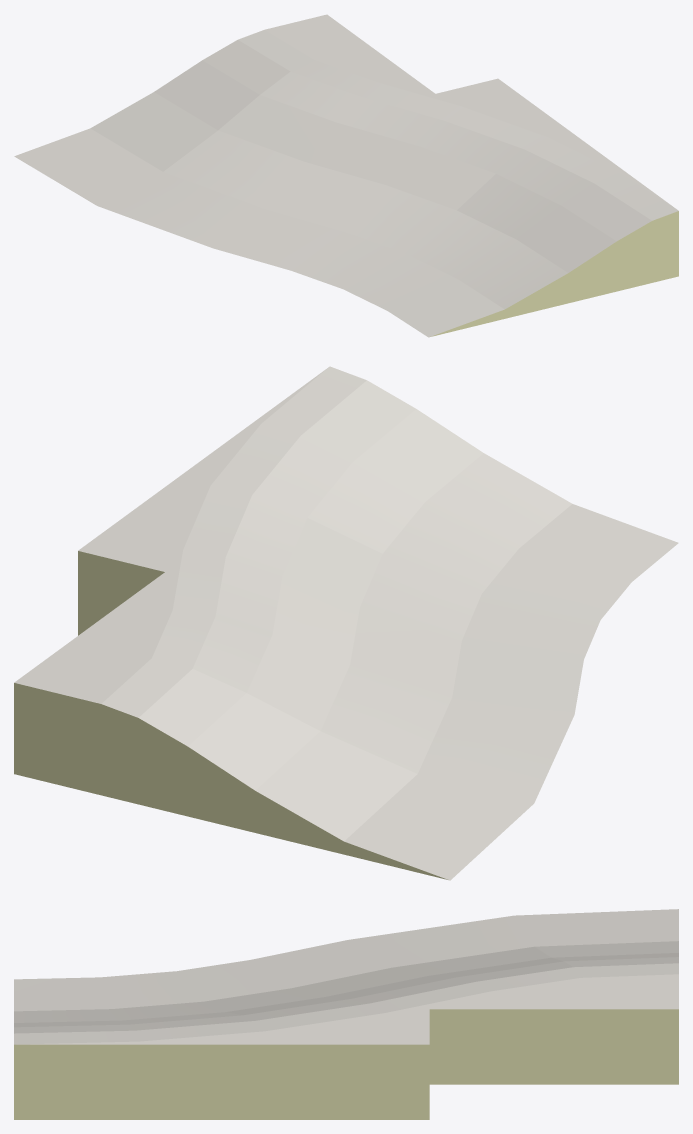
File: Floor_Esse_6x8.glb
The picture shows the model from 3 angles, top to bottom: view 1: azimuth 30°, elevation 25°; view 2: azimuth 150°, elevation 25°; view 3: azimuth 270°, elevation 25°; orthographic projection. The views are drawn at different scales.
Visible parts, largest first — view 1: Floor_Esse_6x8; view 2: Floor_Esse_6x8; view 3: Floor_Esse_6x8.
Part boxes in pixels (left/top/right/bottom): Floor_Esse_6x8: left=14, top=14, right=678, bottom=337; Floor_Esse_6x8: left=14, top=366, right=678, bottom=880; Floor_Esse_6x8: left=14, top=909, right=678, bottom=1119.
Bounding box in the file's own units: 600 × 100 × 800.
